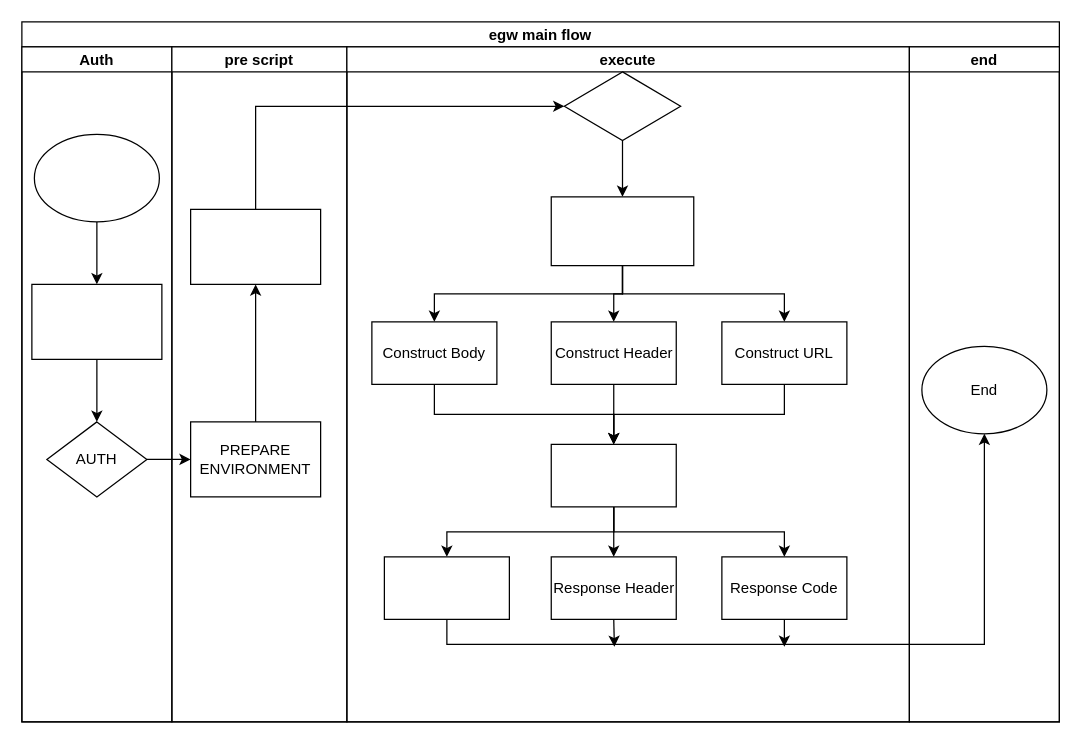
Some shapes in this 1081 by 744 pixel diagram are drawn without their labels. The centre of each missing label's shape, as x and y in pixels:
"API + PARA + AUTH" goes at (x=96, y=321).
"EXECUTE PRE SCRIPT" goes at (x=255, y=246).
"Execute Request" goes at (x=613, y=475).
"EXECUTOR TYPE" goes at (x=622, y=106).
"HTTP" goes at (x=622, y=231).
"Response Body" goes at (x=446, y=587).
"START" goes at (x=96, y=177).
